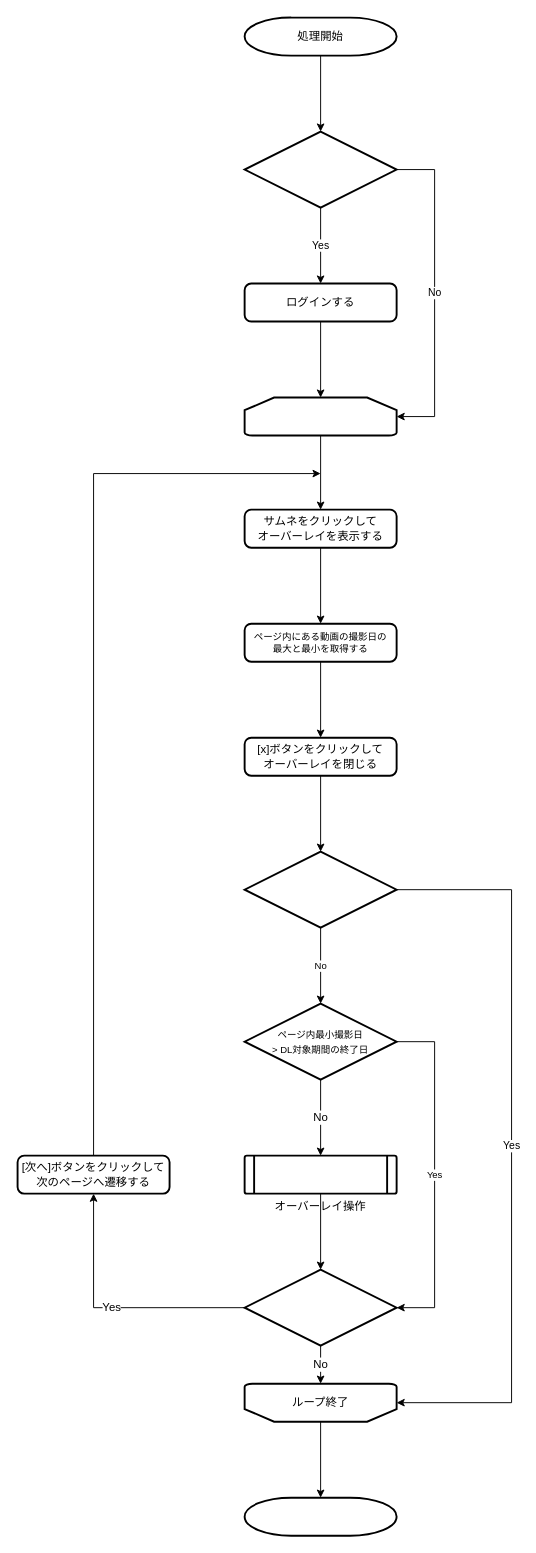
The diagram is 536 pixels wide and 1553 high, and some of its shapes have lost their labels. The centre of each missing label's shape, as x and y in pixels:
"DL対象期間の開始日 > ページ内最大撮影日" goes at point 320,889.
"ページ内の [次へ]ボタンが 有効である" goes at point 320,1307.
"ループ開始" goes at point 320,416.
"ログインページである" goes at point 320,169.
"処理終了 （DL対象期間に撮影された 動画はサイト内に存在しない）" goes at point 320,1516.
